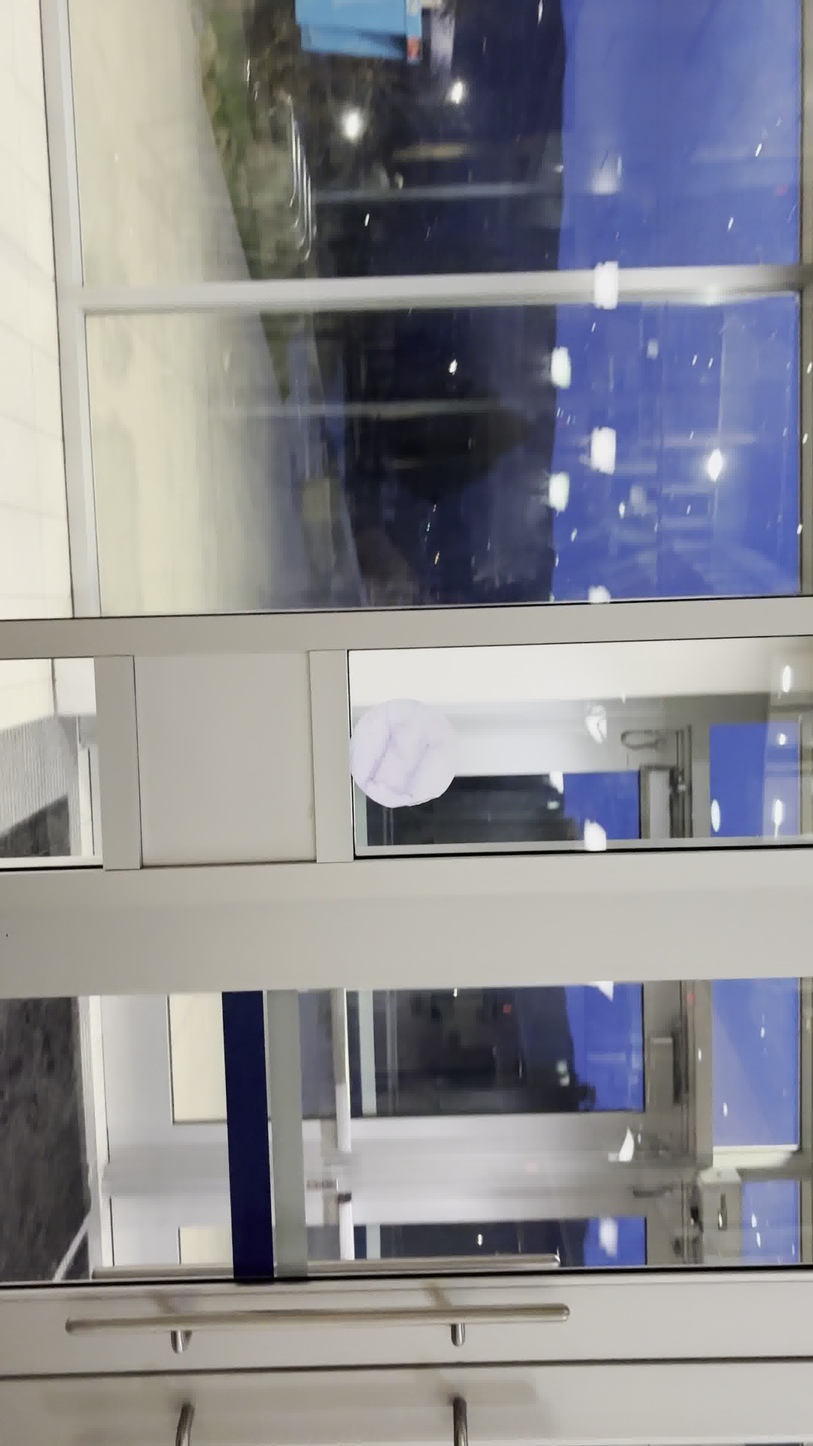Target: (347, 697, 462, 809)
